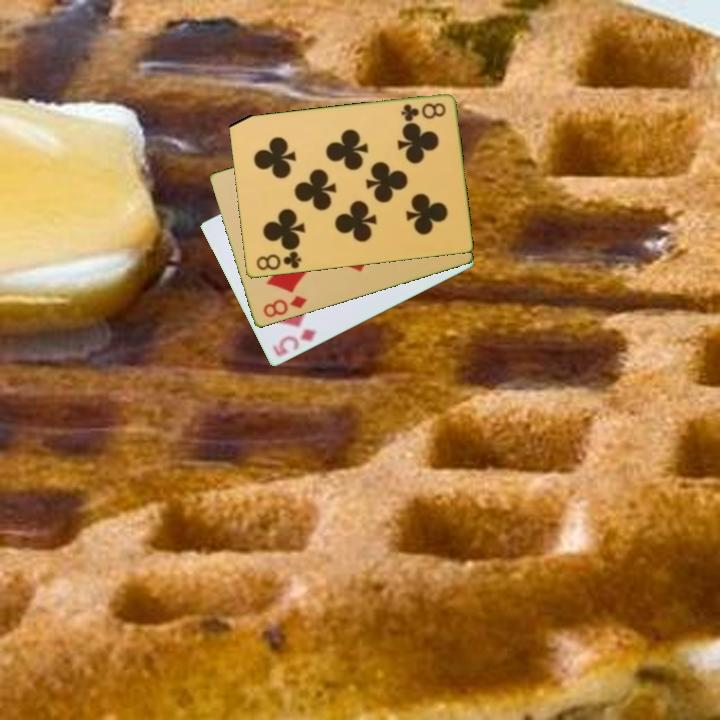5d: (269, 325, 320, 360)
8c: (253, 248, 304, 274), (397, 99, 448, 124)
8d: (259, 292, 310, 321)
